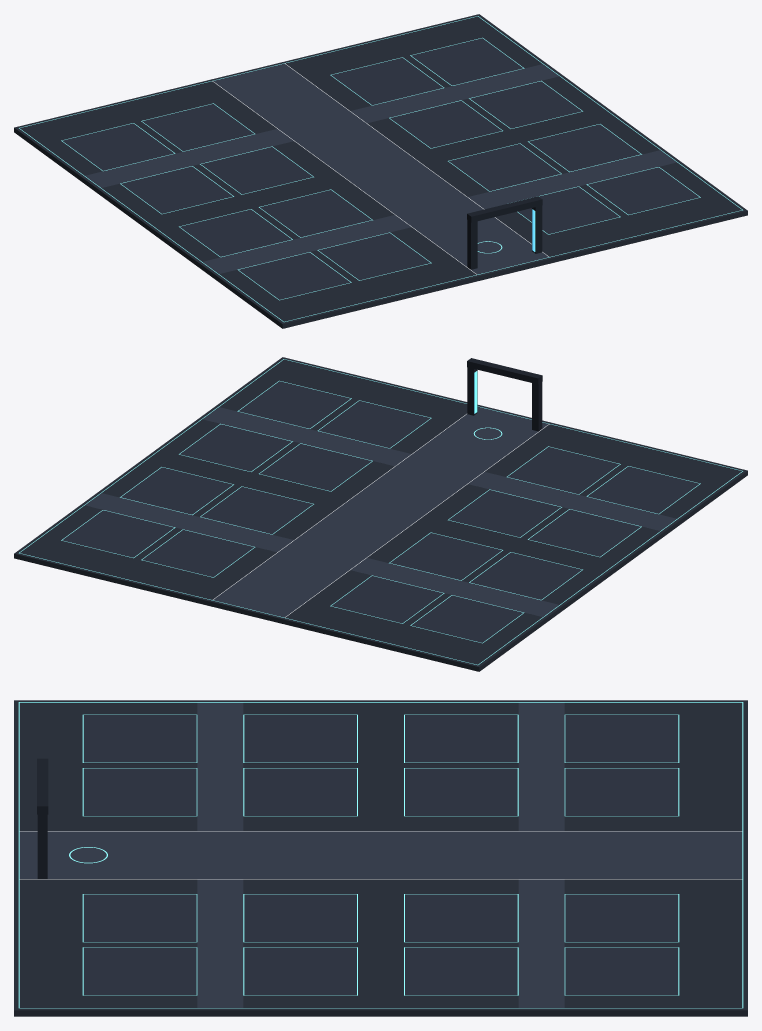
3 renders of one model, top to bottom at view 1: azimuth 30°, elevation 25°; view 2: azimuth 150°, elevation 25°; view 3: azimuth 270°, elevation 25°, orthographic. The views are drawn at different scales.
Parts seen in each view (by area): view 1: district_arcade.lod0; view 2: district_arcade.lod0; view 3: district_arcade.lod0.
Boxes of the visible parts, <box> form: district_arcade.lod0: <box>14,14,747,328</box>; district_arcade.lod0: <box>14,357,747,671</box>; district_arcade.lod0: <box>14,700,747,1016</box>.
Bounding box in the file's own units: 64 × 7.62 × 64.
